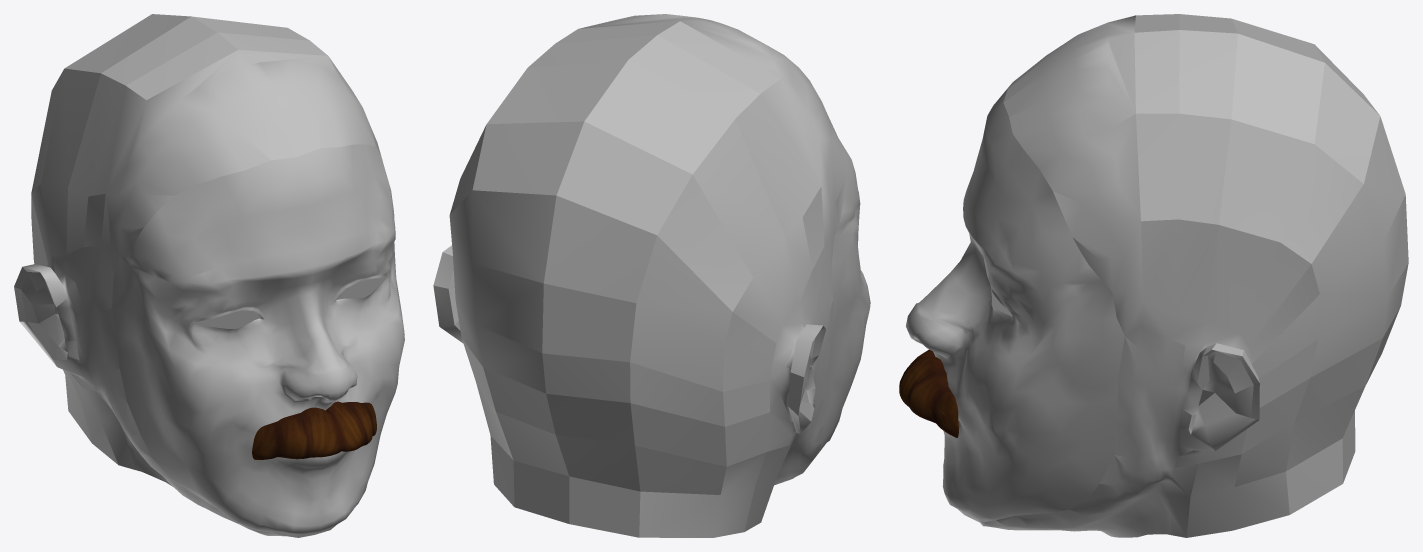
File: mustache1.glb
3 renders of one model, left to right at view 1: azimuth 30°, elevation 25°; view 2: azimuth 150°, elevation 25°; view 3: azimuth 270°, elevation 25°, orthographic. The views are drawn at different scales.
Parts seen in each view (by area): view 1: Occluder, Mustrache; view 2: Occluder; view 3: Occluder, Mustrache.
Boxes of the visible parts, x1,y1,x2,y2 form: Occluder: (14,14,404,537); Mustrache: (252,401,376,459); Occluder: (433,14,870,537); Occluder: (906,14,1408,537); Mustrache: (899,349,958,437).
Bounding box in the file's own units: 0.1841 × 0.2347 × 0.2205.
Materials: 2 (1 with a texture image).
